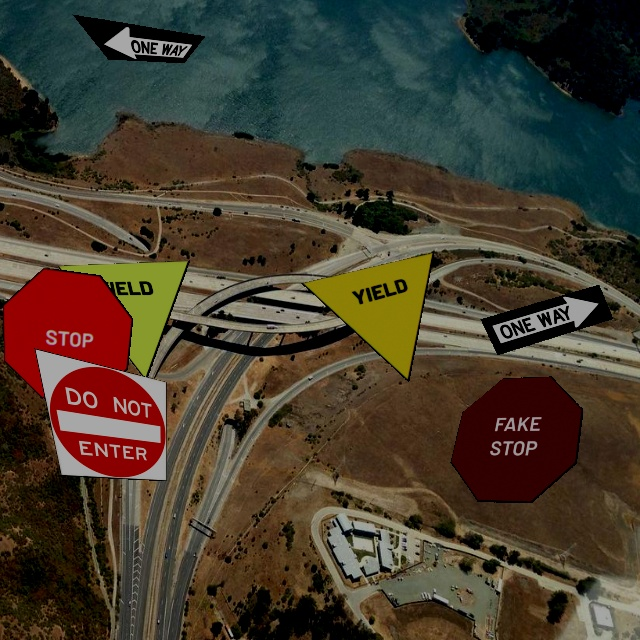DO_NOT_ENTER: (34, 348, 167, 481)
FAKE_STOP: (450, 376, 583, 503)
ONE_WAY_ left: (72, 14, 205, 63)
ONE_WAY_ right: (480, 284, 613, 355)
STOP: (2, 267, 133, 400)
YIELD: (301, 252, 434, 382), (57, 260, 190, 381)
